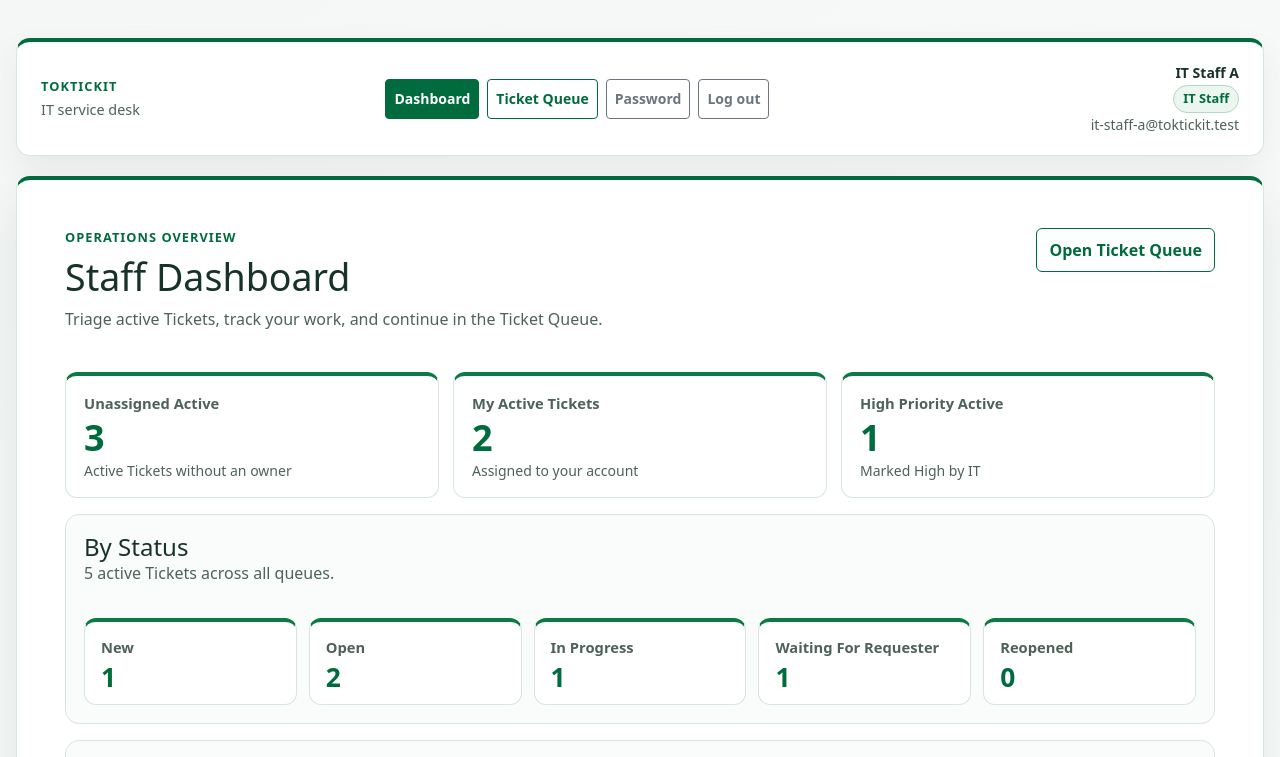
Lab 4 Staff Dashboard › shows active metrics and opens the Queue with its dashboard filters intact
This screenshot has width=1280, height=757.
Expected: the heading "Staff Dashboard" is shown, x1=65 y1=251 x2=350 y2=302
Expected: the button with aria-label "My Active Tickets: 2" is shown, x1=453 y1=372 x2=827 y2=498
Click the button with aria-label "Unassigned Active: 3" at (152, 403), box x1=65 y1=372 x2=439 y2=498
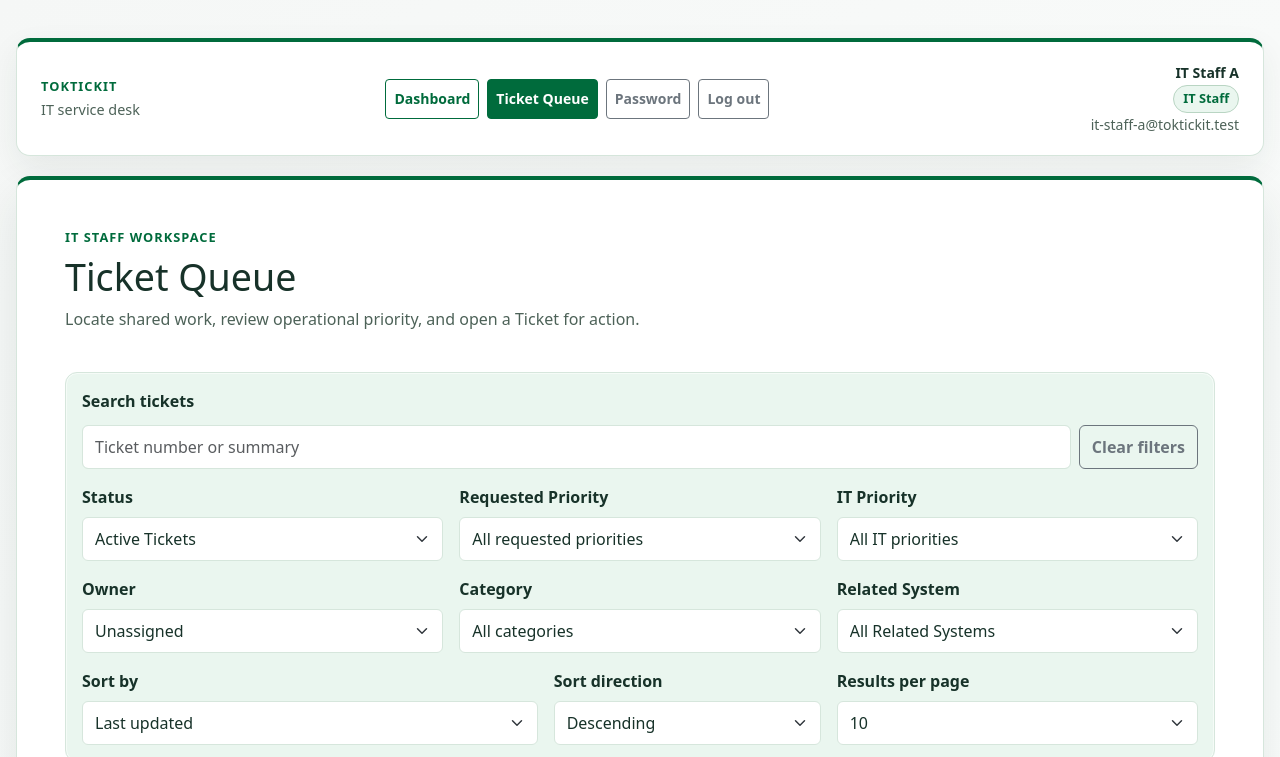
Expected: the heading "Ticket Queue" is shown, x1=65 y1=251 x2=296 y2=302
Expected: the dropdown labelled "Status" shows "Active Tickets", x1=82 y1=517 x2=443 y2=561
